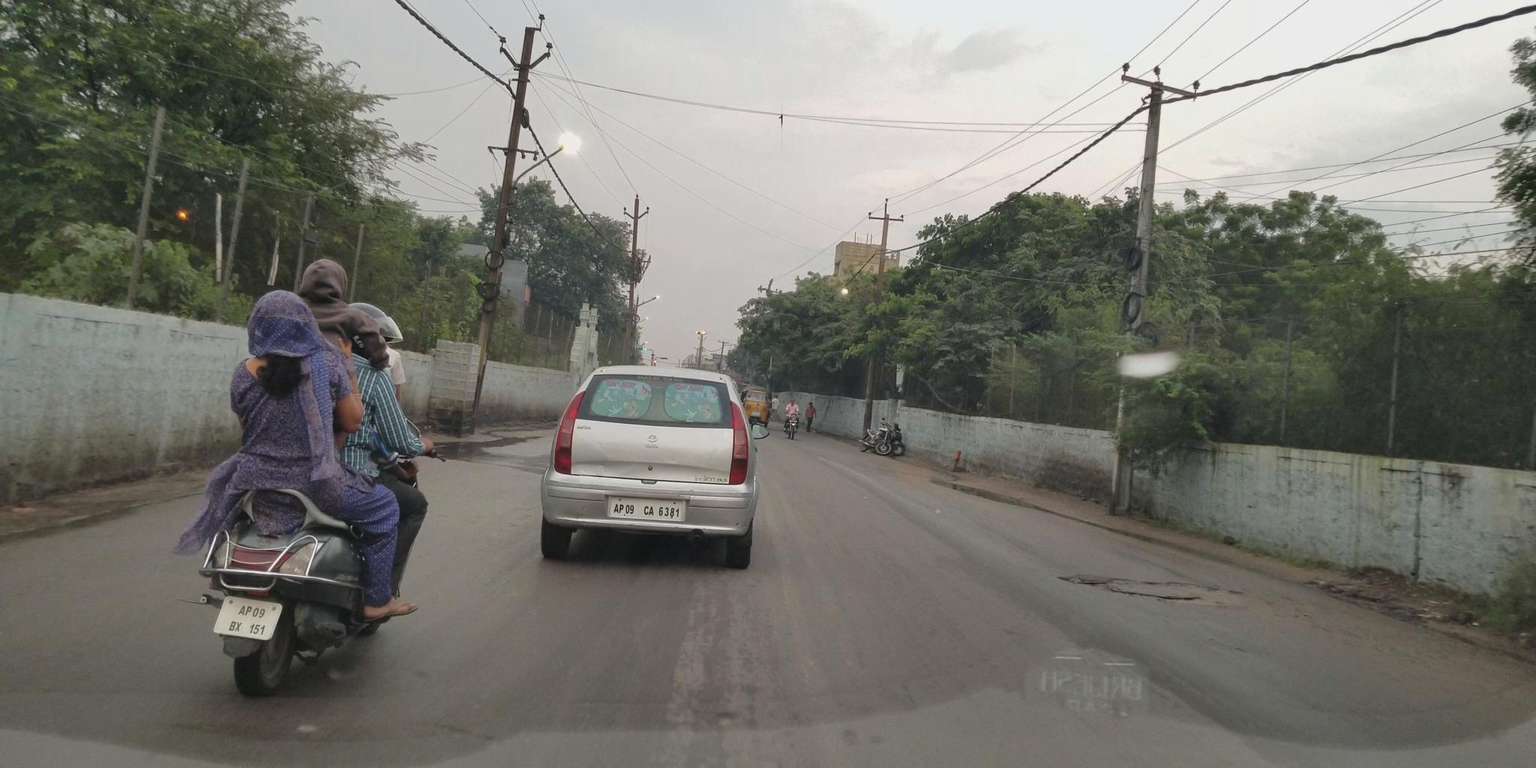streetlight: (520, 132, 593, 182), (623, 282, 676, 328)
